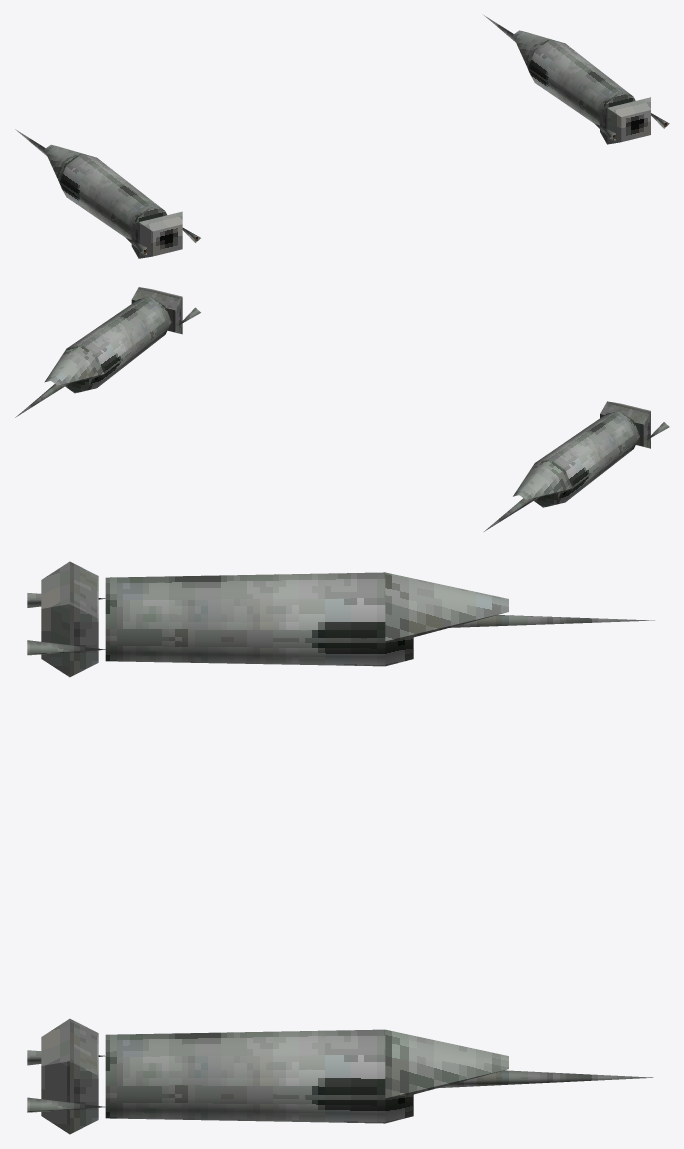
Rendered from black_sun_fighter_heavy_weapon1_s03_l2.fbx.
The picture shows the model from 3 angles, top to bottom: view 1: azimuth 30°, elevation 25°; view 2: azimuth 150°, elevation 25°; view 3: azimuth 270°, elevation 25°; orthographic projection. The views are drawn at different scales.
Parts seen in each view (by area): view 1: mesh_node; view 2: mesh_node; view 3: mesh_node.
Part boxes in pixels (left/top/right/bottom): mesh_node: left=15, top=15, right=669, bottom=258; mesh_node: left=15, top=287, right=669, bottom=531; mesh_node: left=27, top=561, right=654, bottom=1134.
Bounding box in the file's own units: 3.41 × 0.289 × 1.76.
